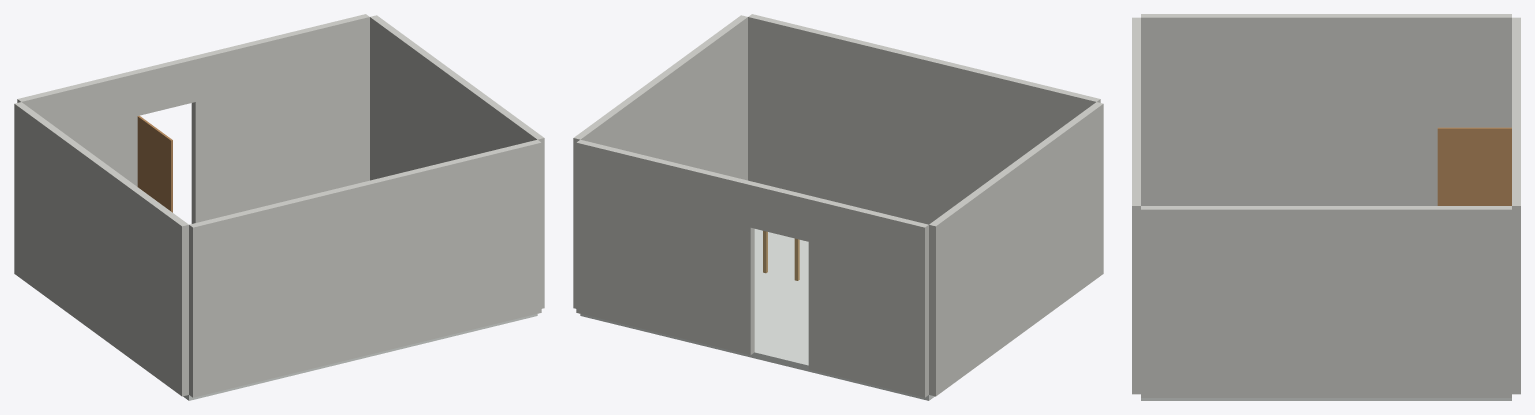
The picture shows the model from 3 angles, left to right: view 1: azimuth 30°, elevation 25°; view 2: azimuth 150°, elevation 25°; view 3: azimuth 270°, elevation 25°; orthographic projection. The views are drawn at different scales.
Parts seen in each view (by area): view 1: room:north:full, room:west:full, room:south:high, room:east:full, room:south:low, room:south:lintel, door:leaf, room:floor; view 2: room:north:full, room:south:high, room:west:full, room:south:low, room:east:full, room:floor, room:south:lintel; view 3: room:east:full, room:west:full, door:leaf, room:north:full, room:south:high, room:floor, room:south:low.
Part boxes in pixels (x1=…): room:north:full: x1=189, y1=139, x2=541, y2=397; room:west:full: x1=14, y1=102, x2=188, y2=396; room:south:high: x1=191, y1=14, x2=369, y2=223; room:east:full: x1=370, y1=15, x2=544, y2=308; room:south:low: x1=17, y1=70, x2=137, y2=186; room:south:lintel: x1=134, y1=56, x2=195, y2=115; door:leaf: x1=137, y1=115, x2=172, y2=212; room:floor: x1=183, y1=314, x2=537, y2=400; room:north:full: x1=748, y1=14, x2=1100, y2=224; room:south:high: x1=576, y1=139, x2=754, y2=355; room:west:full: x1=929, y1=102, x2=1103, y2=396; room:south:low: x1=808, y1=196, x2=928, y2=397; room:east:full: x1=573, y1=15, x2=747, y2=308; room:floor: x1=580, y1=229, x2=934, y2=400; room:south:lintel: x1=750, y1=182, x2=812, y2=241; room:east:full: x1=1141, y1=206, x2=1511, y2=397; room:west:full: x1=1141, y1=14, x2=1511, y2=205; door:leaf: x1=1437, y1=127, x2=1511, y2=205; room:north:full: x1=1132, y1=17, x2=1140, y2=394; room:south:high: x1=1512, y1=112, x2=1520, y2=394; room:floor: x1=1141, y1=398, x2=1511, y2=400; room:south:low: x1=1512, y1=17, x2=1520, y2=80.
Bounding box in the file's own units: 6.24 × 2.9 × 5.24.
